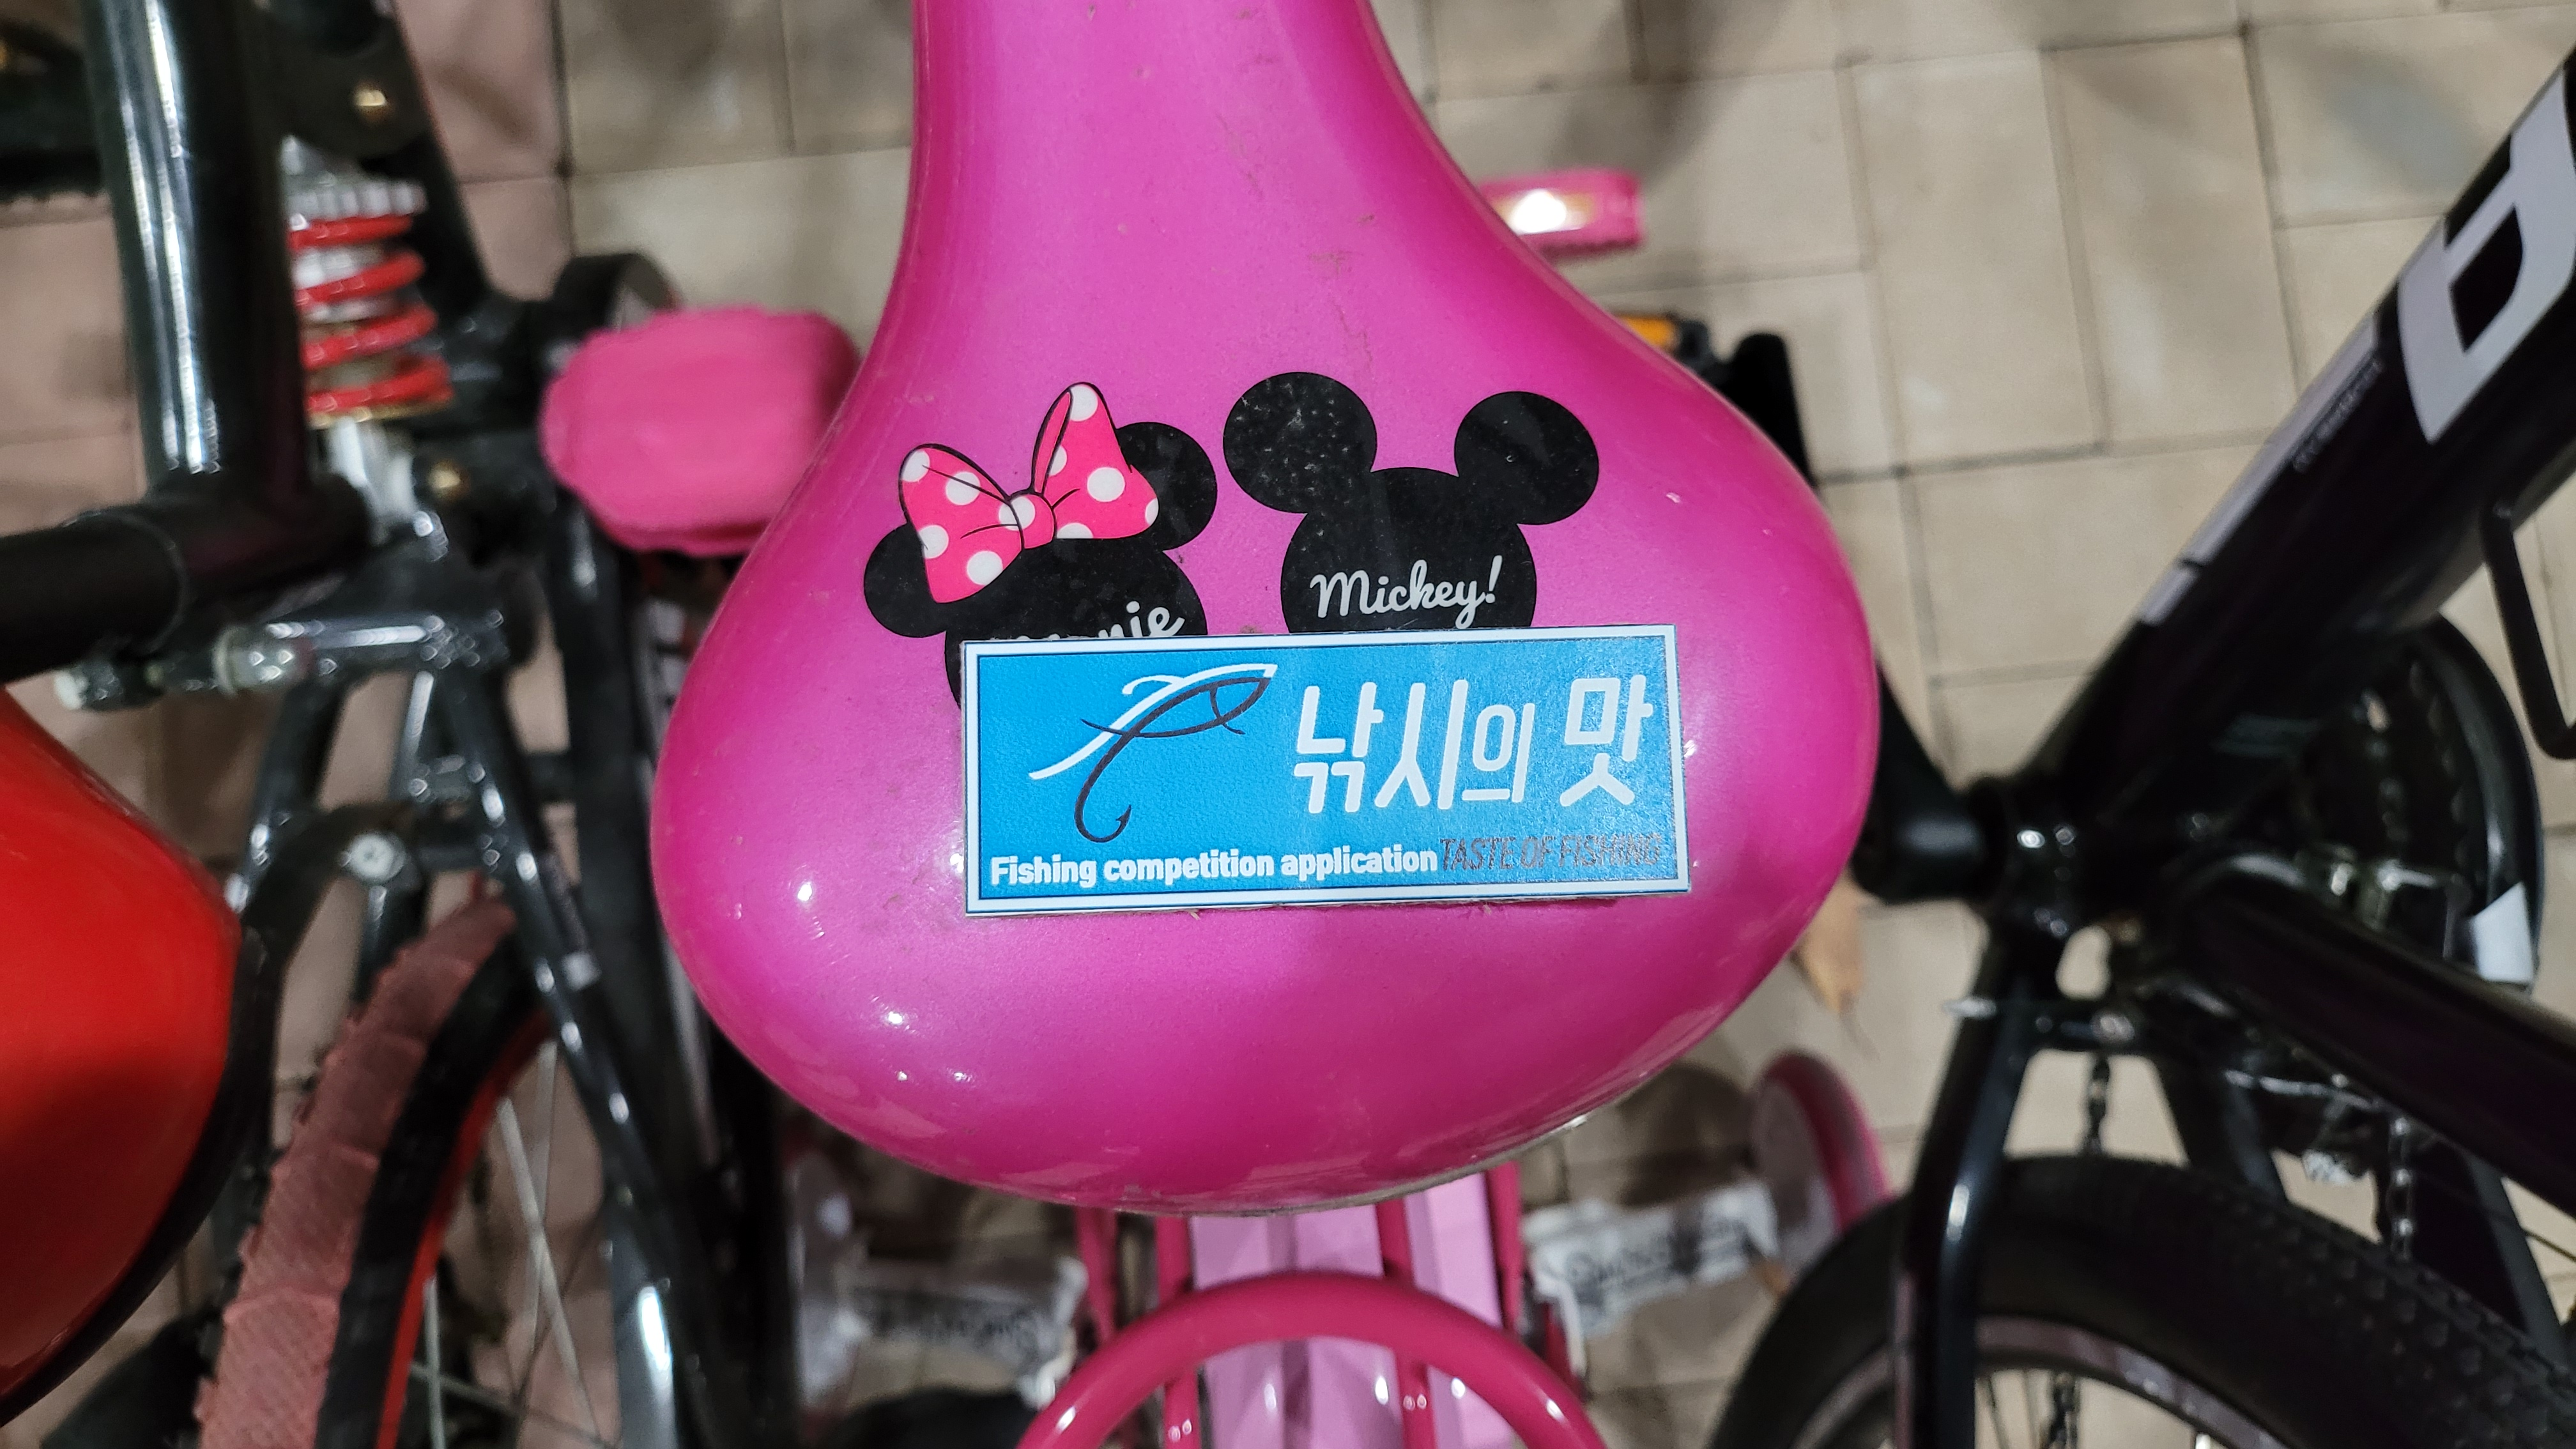tag: (968, 639, 1693, 899)
